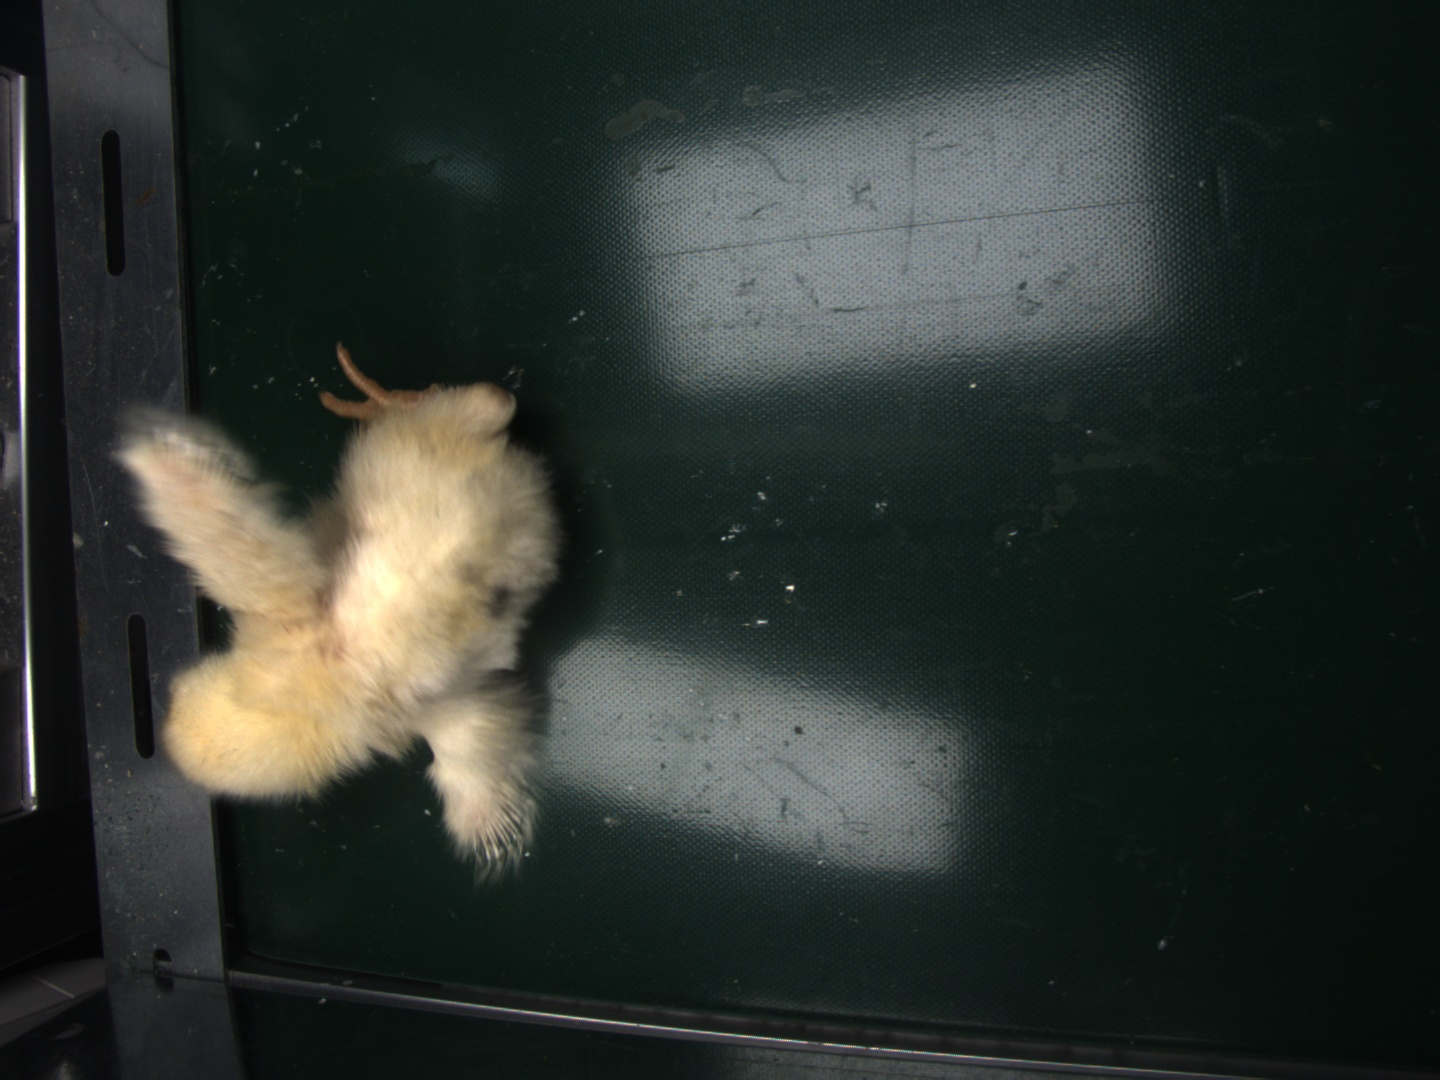male: (474, 791, 526, 859)
